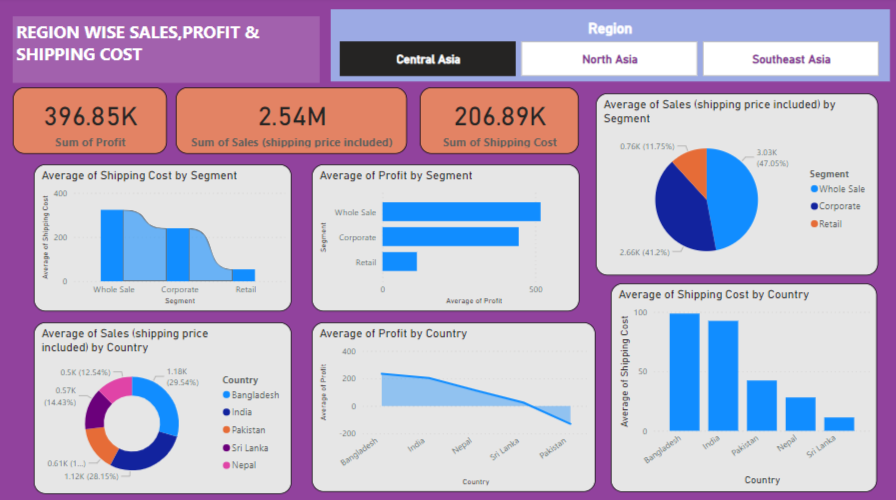

What the dashboard file says about the page in this screenshot:
{"tool":"powerbi","page":{"name":"Page 1","canvas":[1280,720],"ordinal":0},"visuals":[{"type":"pieChart","fields":{"Y":["Avg(DT-Mart.Sales (shipping price included))"],"Category":["DT-Mart.Segment"]},"box":[850,137.5,402.5,260],"z":0},{"type":"donutChart","fields":{"Category":["DT-Mart.Country"],"Y":["Avg(DT-Mart.Sales (shipping price included))"]},"box":[48.3,463.3,368.3,245],"z":1000},{"type":"areaChart","fields":{"Category":["DT-Mart.Country"],"Y":["Avg(DT-Mart.Profit)"]},"box":[445,463.3,405,241.7],"z":2000},{"type":"columnChart","fields":{"Category":["DT-Mart.Country"],"Y":["Avg(DT-Mart.Shipping Cost)"]},"box":[872.5,407.5,380,297.5],"z":3000},{"type":"barChart","fields":{"Category":["DT-Mart.Segment"],"Y":["Avg(DT-Mart.Profit)"]},"box":[445,238.3,381.7,210],"z":4000},{"type":"ribbonChart","fields":{"Category":["DT-Mart.Segment"],"Y":["Avg(DT-Mart.Shipping Cost)"]},"box":[48.3,238.3,368.3,210],"z":5000},{"type":"advancedSlicerVisual","fields":{"Values":["DT-Mart.Region"]},"box":[472.5,17.5,797.5,102.5],"z":6000},{"type":"textbox","box":[18.3,26.7,438.3,95],"z":7000},{"type":"card","fields":{"Values":["Sum(DT-Mart.Profit)"]},"box":[18.3,128.3,220,95],"z":7001},{"type":"card","fields":{"Values":["Sum(DT-Mart.Sales (shipping price included))"]},"box":[251.7,128.3,330,95],"z":7002},{"type":"card","fields":{"Values":["Sum(DT-Mart.Shipping Cost)"]},"box":[600,128.3,226.7,95],"z":7003}]}

Visuals, with their boxes in screenshot pixels (x1, y1, x2, y2), scaled from the page's 1280x720 canvas onto the 896x500 screenshot:
pieChart - Avg(DT-Mart.Sales (shipping price included)) x DT-Mart.Segment: box(595, 95, 877, 276)
donutChart - DT-Mart.Country x Avg(DT-Mart.Sales (shipping price included)): box(34, 322, 292, 492)
areaChart - DT-Mart.Country x Avg(DT-Mart.Profit): box(312, 322, 595, 490)
columnChart - DT-Mart.Country x Avg(DT-Mart.Shipping Cost): box(611, 283, 877, 490)
barChart - DT-Mart.Segment x Avg(DT-Mart.Profit): box(312, 165, 579, 311)
ribbonChart - DT-Mart.Segment x Avg(DT-Mart.Shipping Cost): box(34, 165, 292, 311)
advancedSlicerVisual - DT-Mart.Region: box(331, 12, 889, 83)
textbox: box(13, 19, 320, 85)
card - Sum(DT-Mart.Profit): box(13, 89, 167, 155)
card - Sum(DT-Mart.Sales (shipping price included)): box(176, 89, 407, 155)
card - Sum(DT-Mart.Shipping Cost): box(420, 89, 579, 155)
